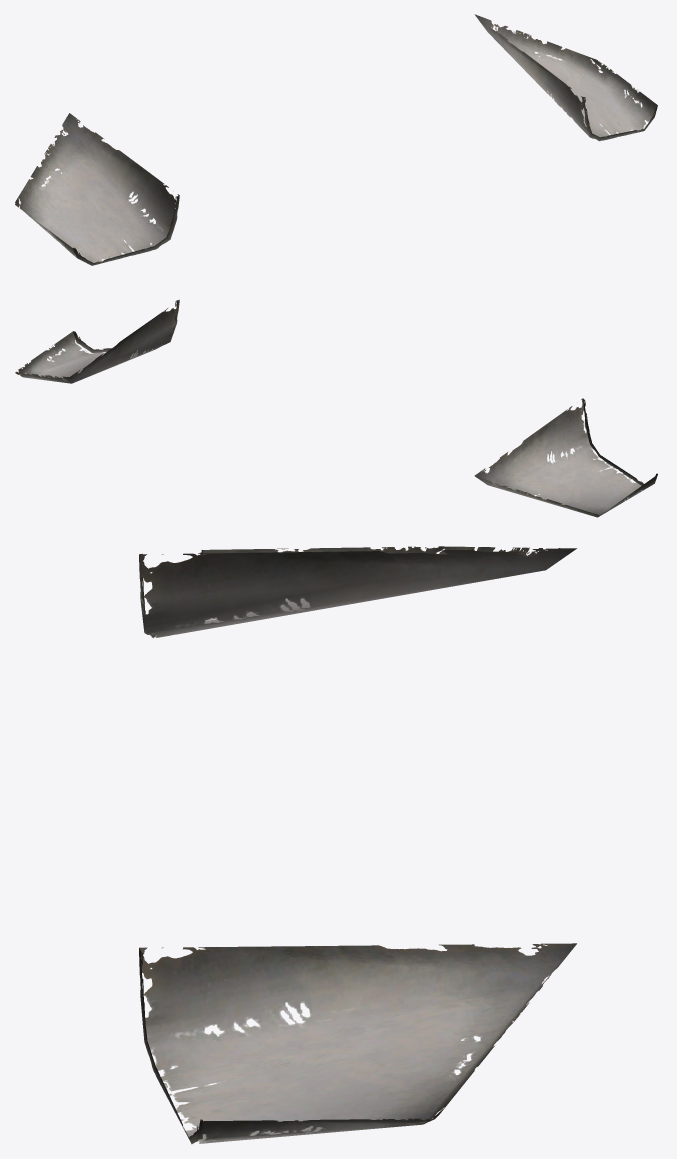
Rendered from hutt_fighter_medium_missle_pod_s01_l0.fbx.
3 views of the same model, one above another, from view 1: azimuth 30°, elevation 25°; view 2: azimuth 150°, elevation 25°; view 3: azimuth 270°, elevation 25° (orthographic). The views are drawn at different scales.
Parts seen in each view (by area): view 1: mesh_node; view 2: mesh_node; view 3: mesh_node.
Part boxes in pixels (x1=…): mesh_node: x1=15, y1=14, x2=657, y2=265; mesh_node: x1=15, y1=299, x2=657, y2=517; mesh_node: x1=139, y1=546, x2=576, y2=1144.
Bounding box in the file's own units: 9.18 × 0.9644 × 3.24.
